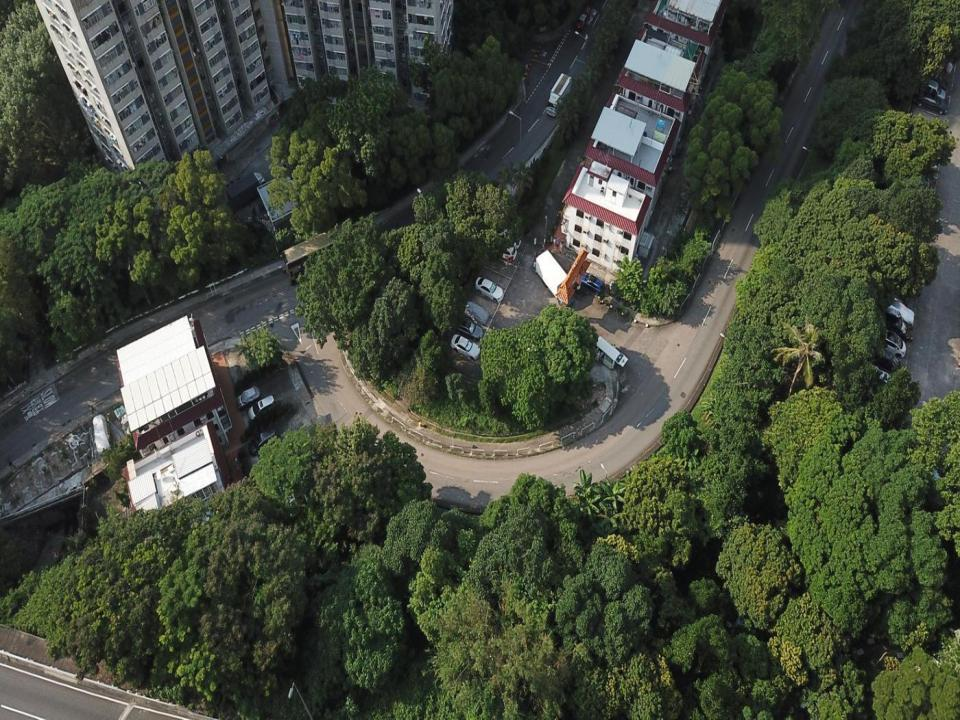bus: (281, 231, 338, 287)
car: (879, 299, 915, 329), (866, 346, 901, 373), (875, 328, 906, 358), (911, 91, 949, 115), (92, 413, 112, 458), (248, 427, 278, 457), (247, 393, 279, 421), (450, 333, 481, 361), (880, 312, 910, 340), (474, 276, 504, 303), (859, 363, 890, 389), (454, 318, 484, 342), (918, 79, 947, 103), (578, 271, 605, 296), (463, 301, 489, 326), (234, 386, 260, 410), (920, 70, 948, 92), (499, 230, 521, 250), (494, 243, 517, 262), (575, 10, 590, 31)
truck: (535, 250, 572, 305), (591, 335, 628, 370), (545, 73, 573, 118)
